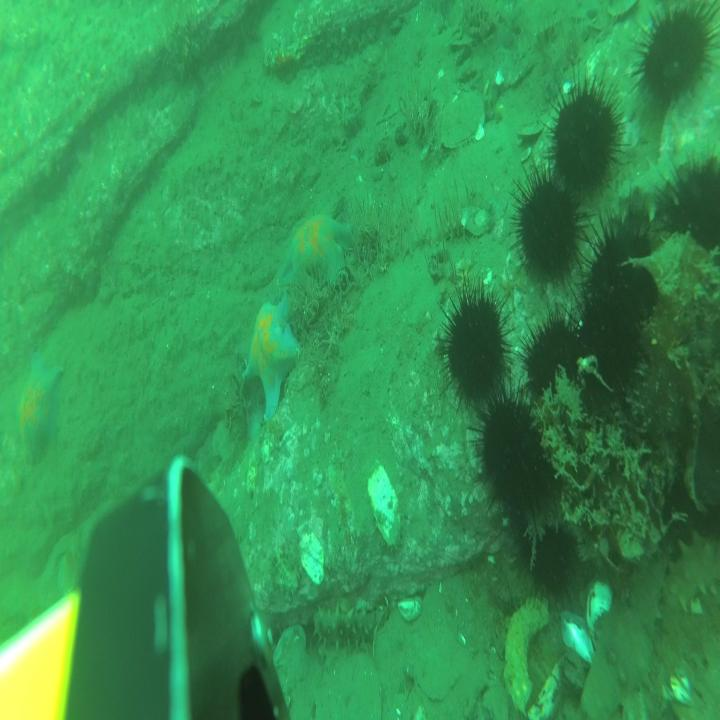echinus: (544, 60, 630, 208), (510, 160, 589, 298), (634, 0, 720, 124), (441, 275, 513, 416), (586, 196, 657, 333), (575, 280, 641, 418), (475, 385, 545, 513), (664, 148, 720, 276), (524, 305, 582, 410), (516, 513, 578, 607), (664, 460, 719, 548)
holothurian: (580, 542, 672, 720), (614, 148, 704, 228), (661, 530, 720, 616), (314, 604, 386, 653)
scallop: (313, 651, 384, 720), (441, 90, 486, 150), (274, 622, 307, 682), (461, 204, 492, 237)
starfish: (272, 208, 350, 302), (242, 299, 300, 422), (15, 349, 60, 465)
